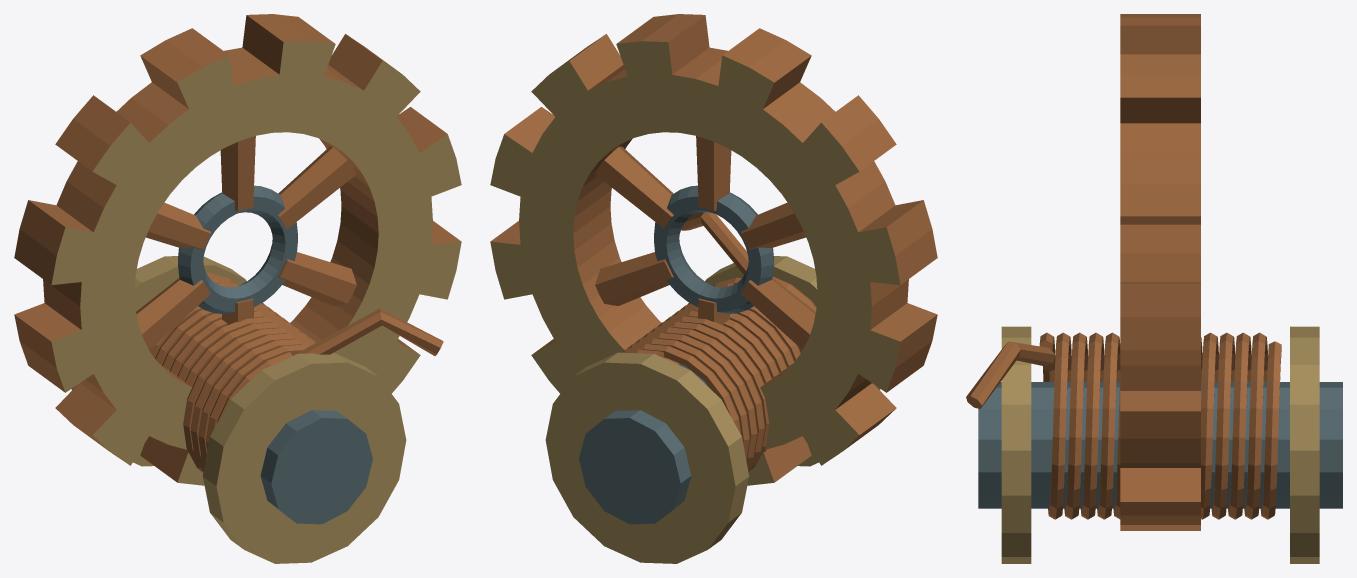
File: firstlight-kit.glb
3 renders of one model, left to right at view 1: azimuth 30°, elevation 25°; view 2: azimuth 150°, elevation 25°; view 3: azimuth 270°, elevation 25°, orthographic. The views are drawn at different scales.
Visible parts, largest first — view 1: sunwheel_mesh, winding_mesh; view 2: sunwheel_mesh, winding_mesh; view 3: winding_mesh, sunwheel_mesh.
Part boxes in pixels (x1=…): sunwheel_mesh: x1=14, y1=14, x2=461, y2=485; winding_mesh: x1=71, y1=256, x2=443, y2=563; sunwheel_mesh: x1=490, y1=14, x2=937, y2=485; winding_mesh: x1=545, y1=212, x2=880, y2=563; winding_mesh: x1=966, y1=326, x2=1342, y2=563; sunwheel_mesh: x1=1120, y1=14, x2=1200, y2=530.
Size of the model in its own units: 1.21 by 1.33 by 0.889.
